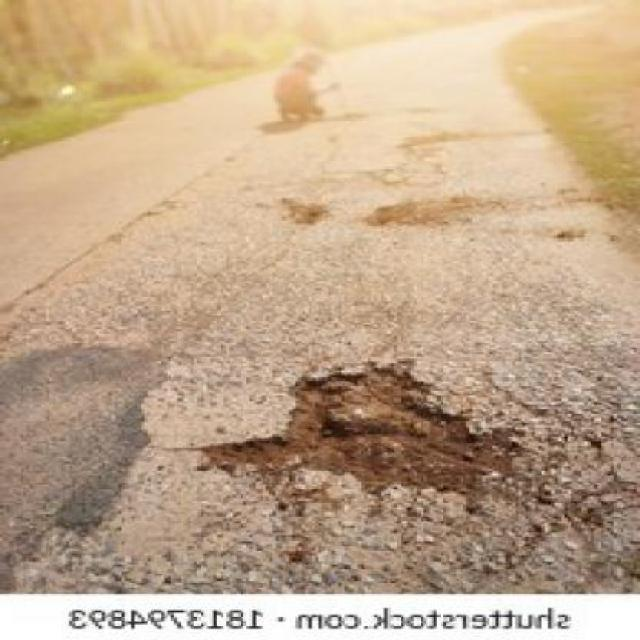Pothole: (185, 355, 525, 515)
